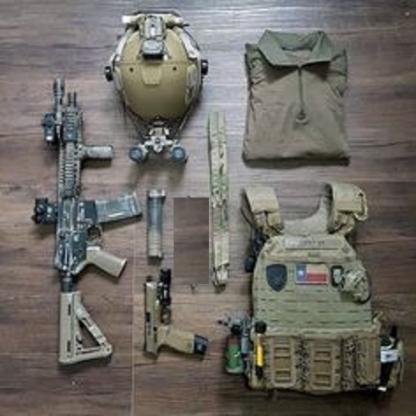Grenade: (214, 321, 244, 378)
Gun: (31, 75, 146, 368)
Pistol: (142, 265, 209, 360)
